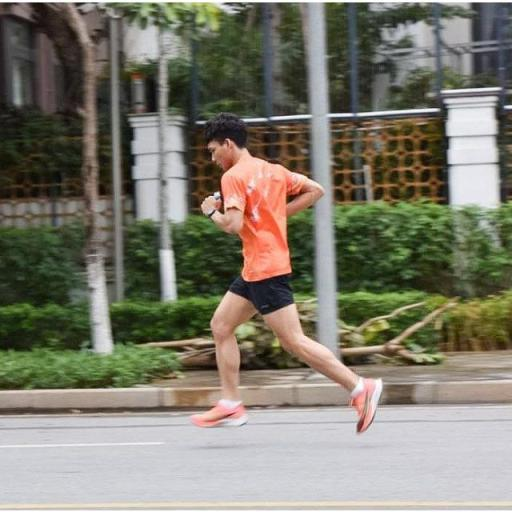Running: (175, 105, 401, 445)
